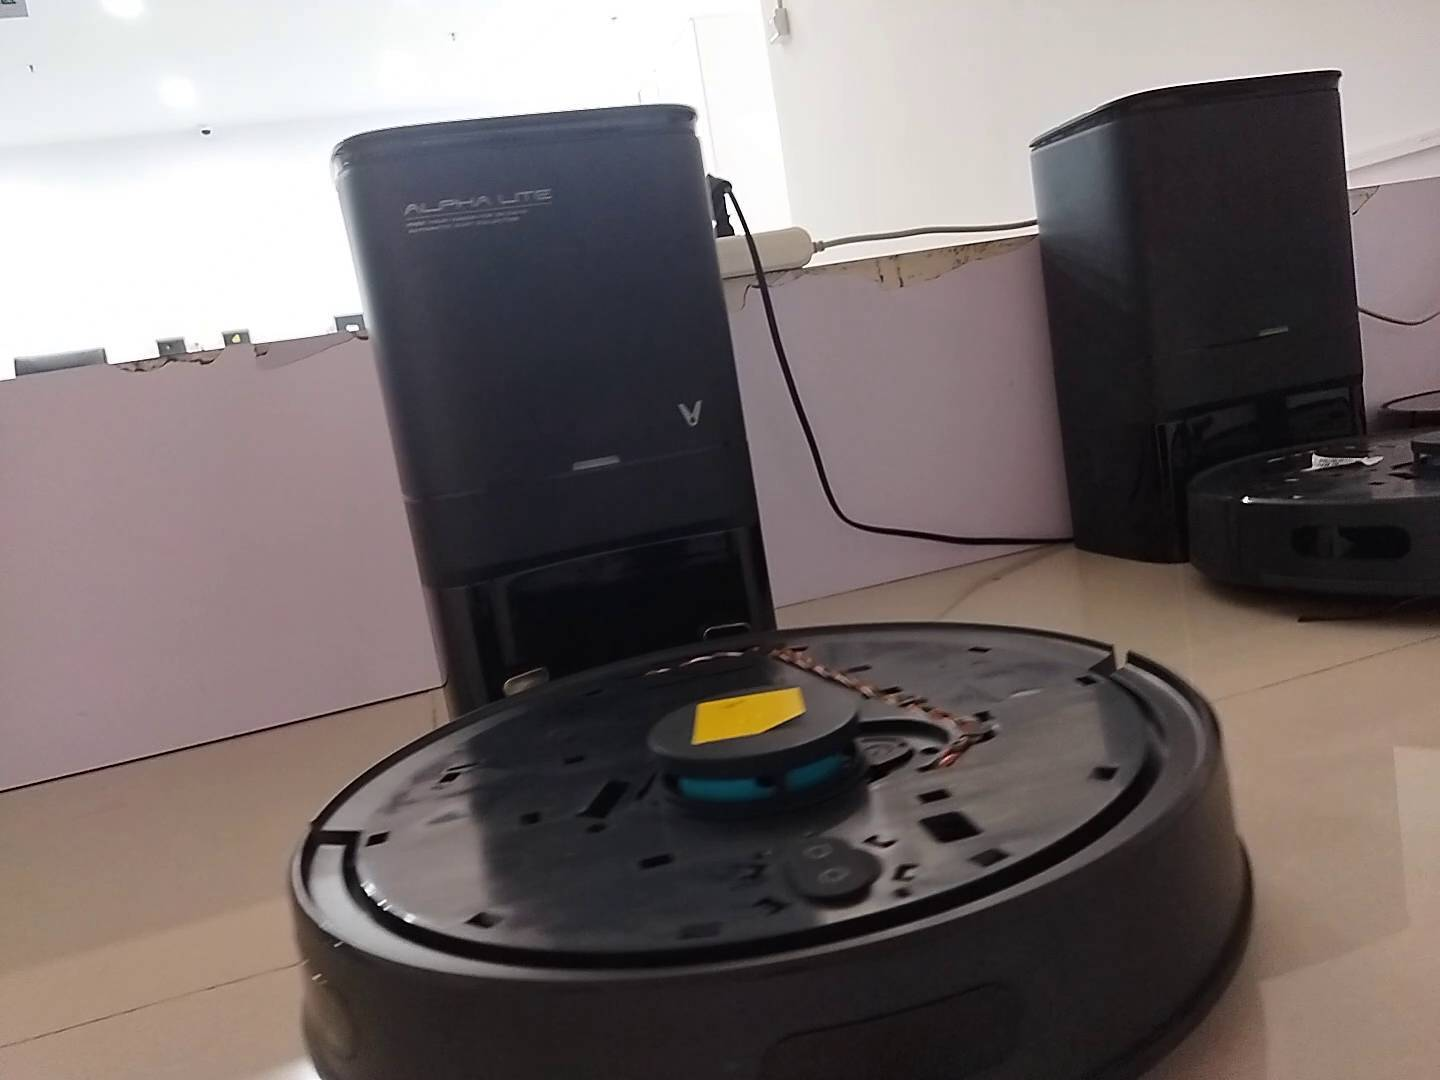dust collecting barrel: (334, 104, 777, 719), (1030, 69, 1372, 566)
